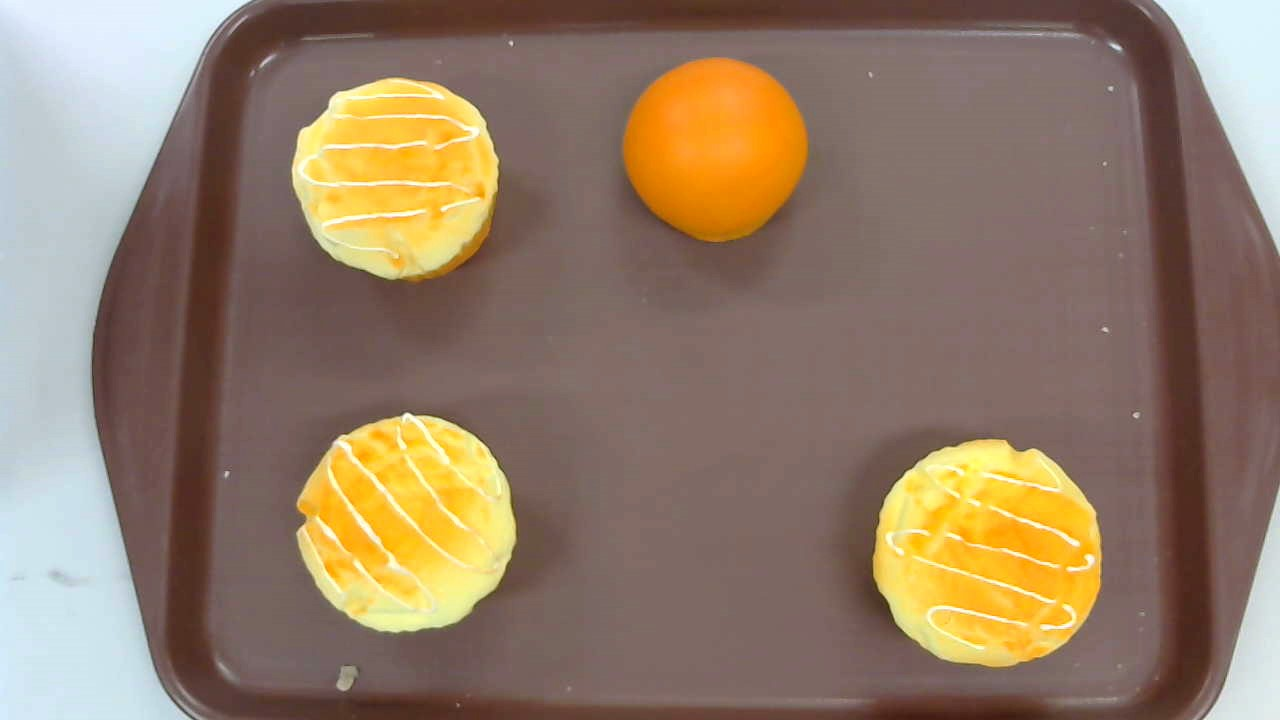bun: (622, 56, 809, 244)
cupcake: (871, 440, 1102, 668), (295, 409, 518, 634), (291, 76, 500, 284)
